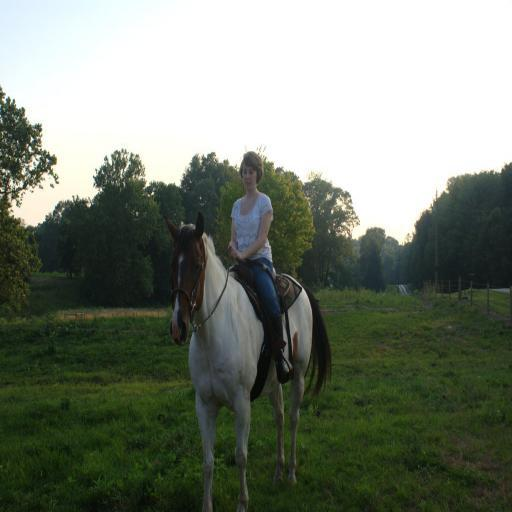Horse: (165, 211, 332, 512)
